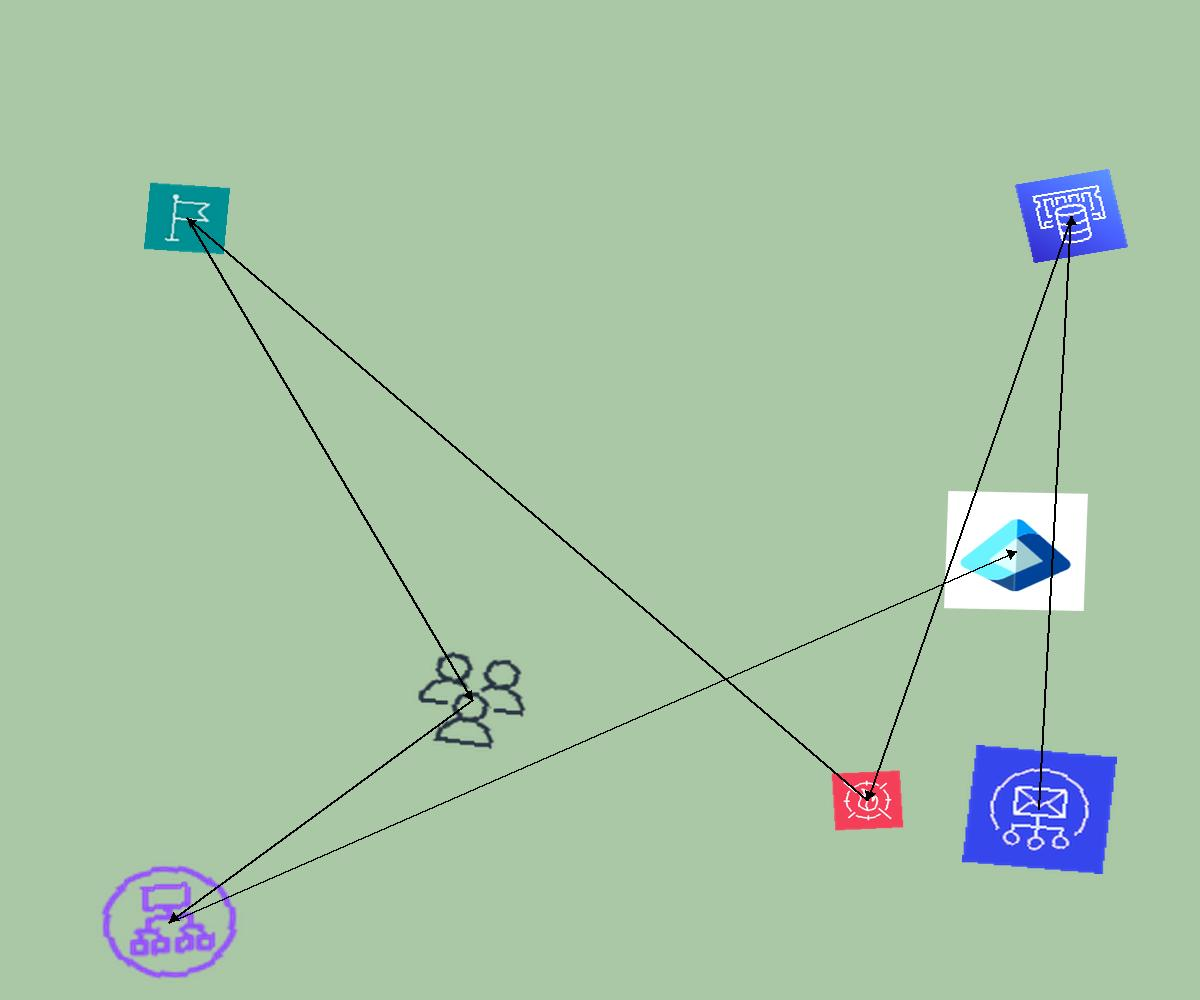AWS-ElastiCache: (1014, 168, 1129, 264)
AWS-Region: (143, 182, 231, 255)
AWS-Res_Elastic-Load-Balancing_Application-Load-Balancer: (88, 854, 251, 990)
AWS-Res_Users: (404, 644, 540, 757)
AWS-Simple-Email-Service: (962, 745, 1117, 874)
AWS-WAF: (831, 770, 904, 831)
Azure_microsoft_entra: (944, 491, 1088, 611)
